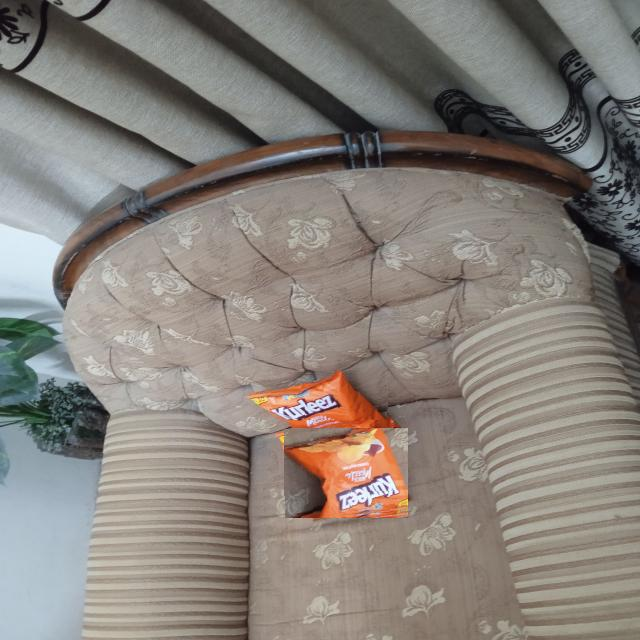Plastic: (283, 428, 408, 518), (254, 372, 388, 420)
